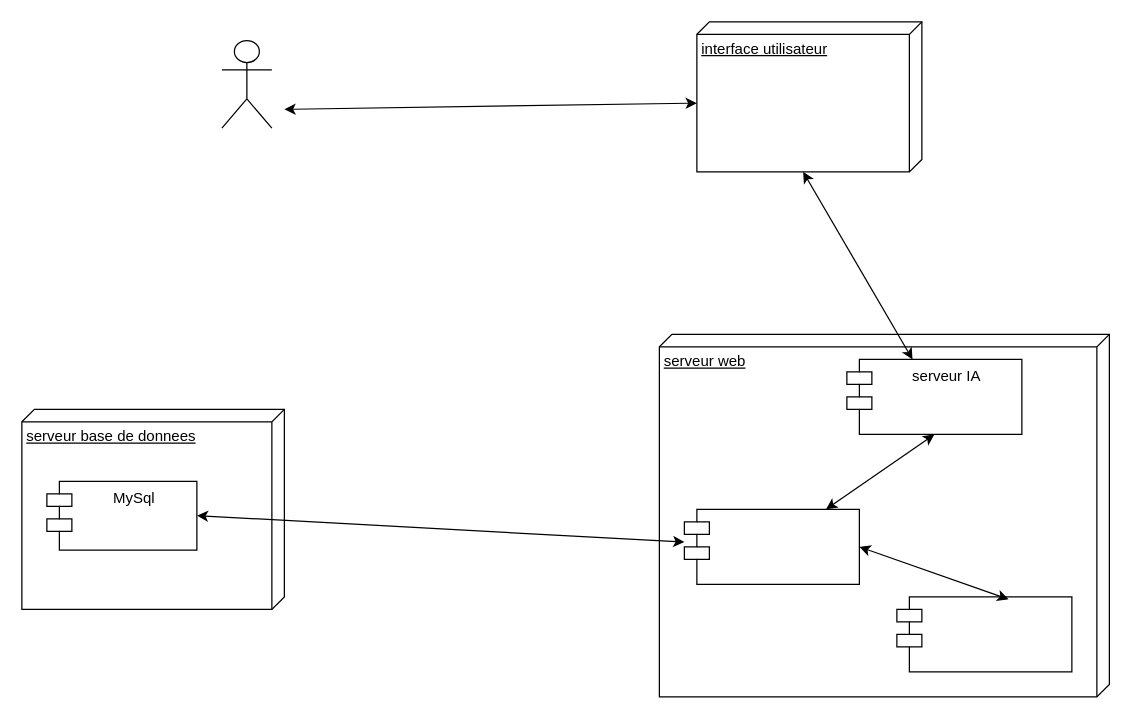
Image size: 1131x719. Some labels were removed from this diagram. Here are the shapes that lost their labels. From the top down, the centre of each, then its label:
At (246,83): "utilisateur".
At (771,546): "serveur DB".
At (984,634): "serveur fille log".
